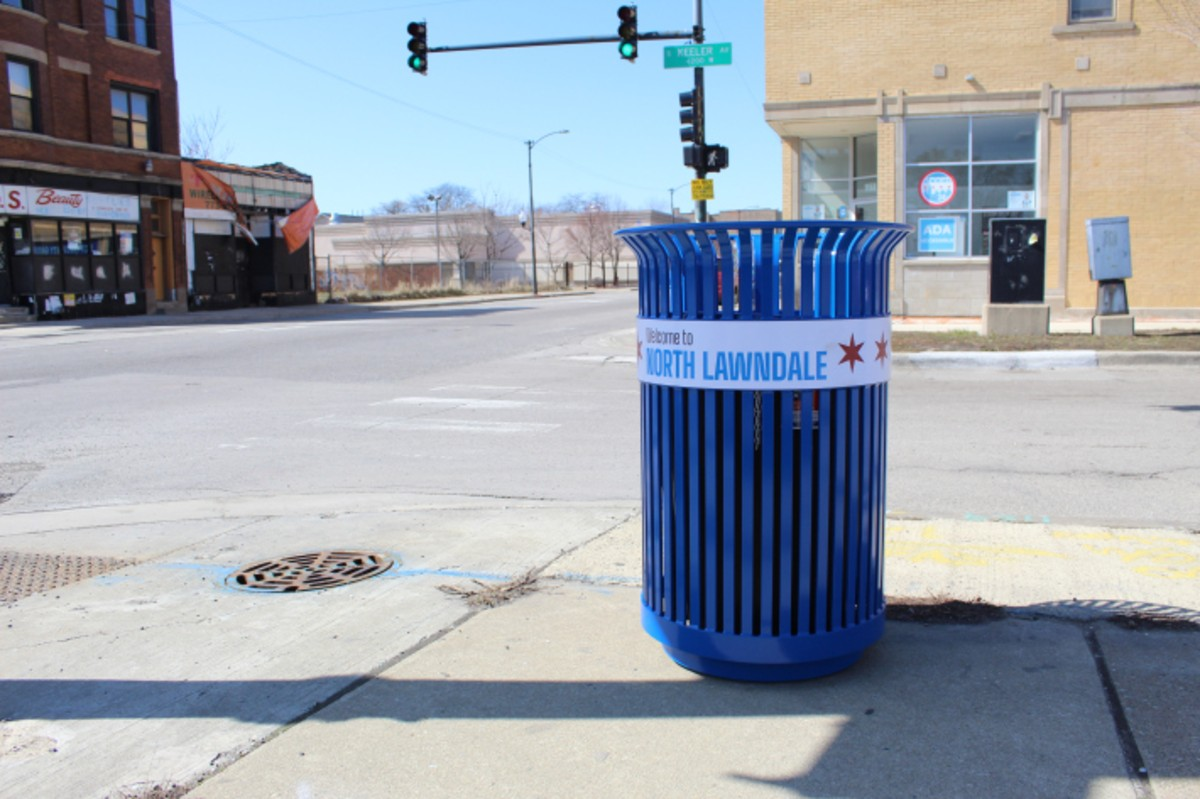TraficLight: (395, 16, 446, 76), (612, 7, 638, 61)
TrashBin: (607, 205, 931, 678)
